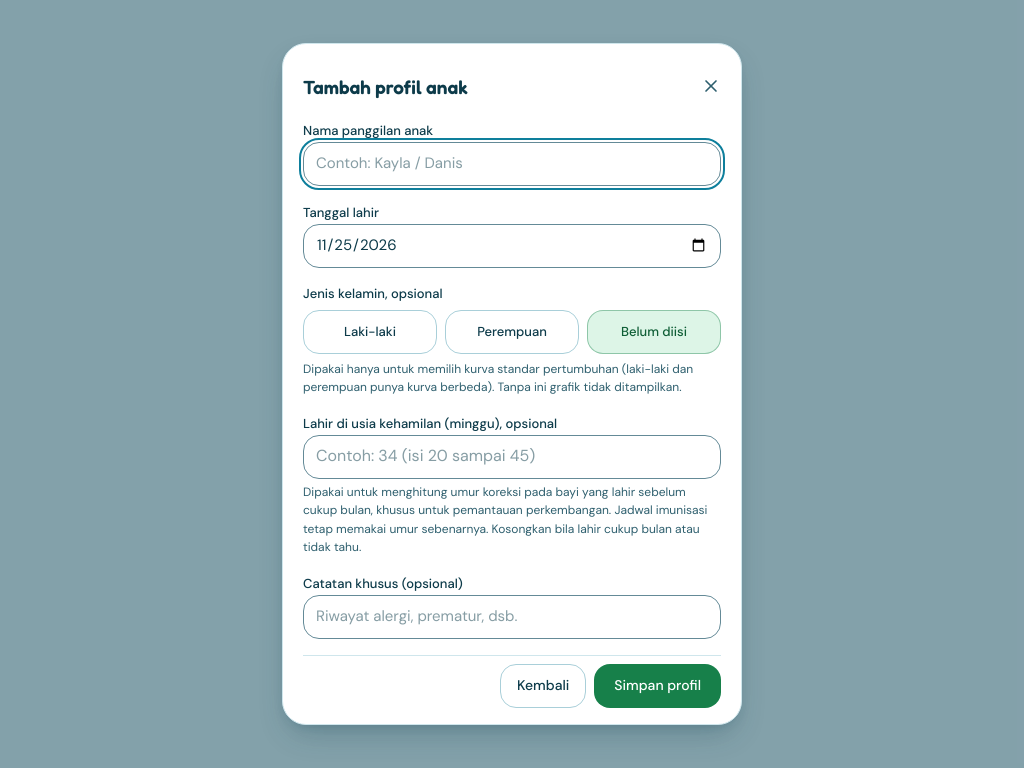
Scenario: ProfileModal: isian usia kehamilan di balik flag › isian hanya menerima angka
This screenshot has width=1024, height=768.
Type "3a4b" into the field labelled "Lahir di usia kehamilan (minggu), opsional" at (512, 457), box [303,435,721,479]
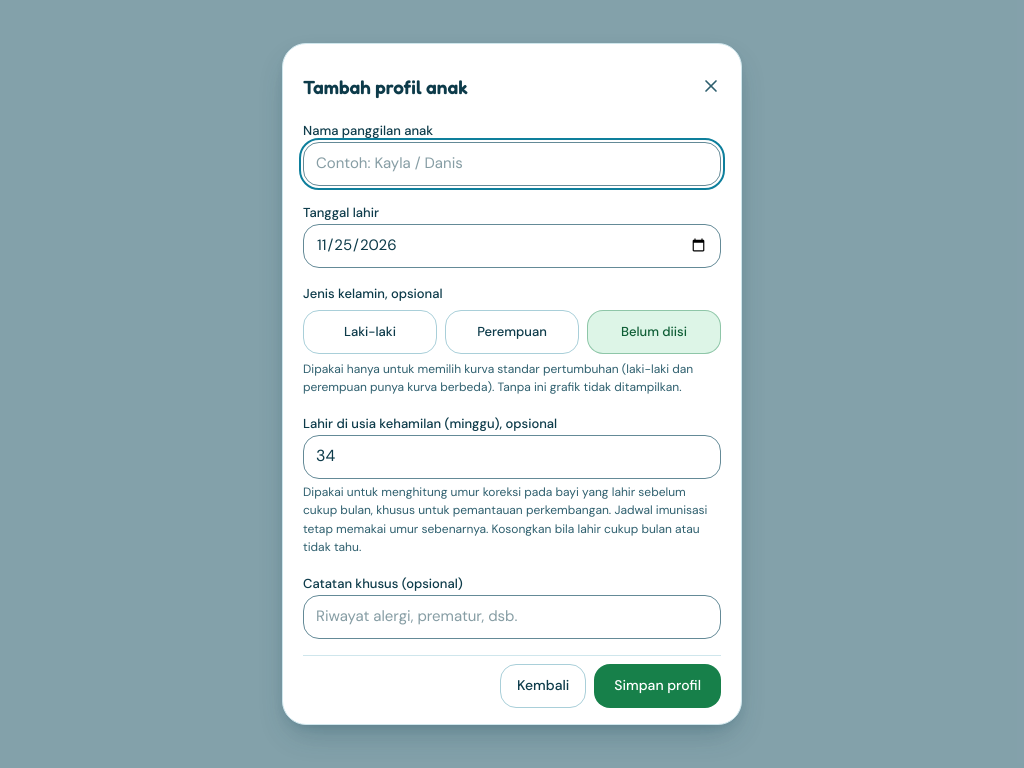
Expected: the field labelled "Lahir di usia kehamilan (minggu), opsional" holds "34", [303,435,721,479]
